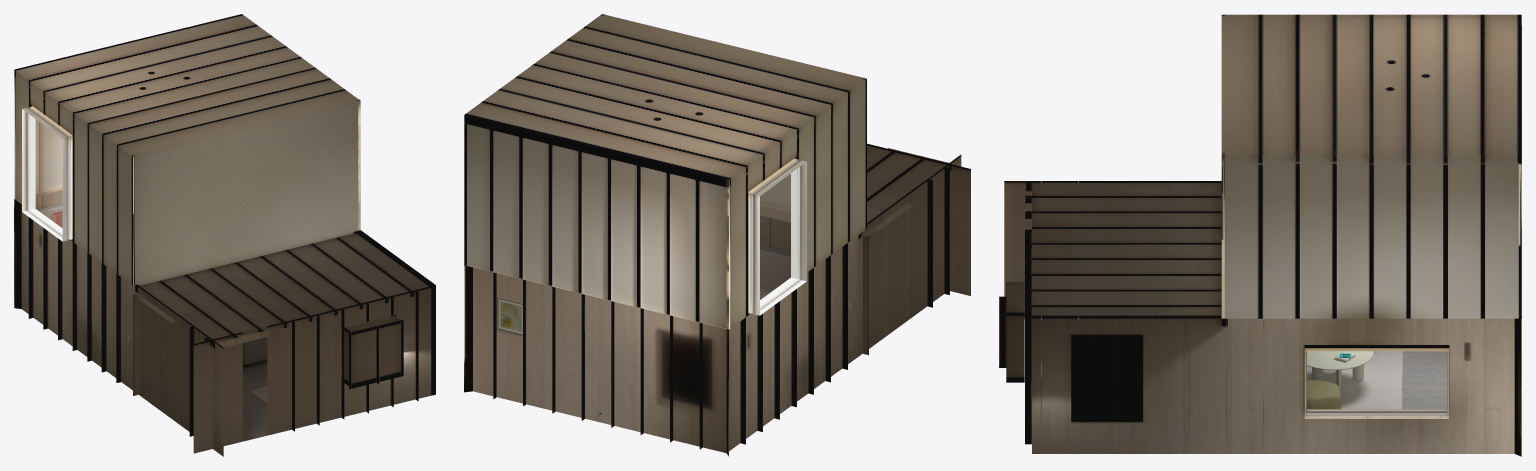
The model's file is XREmulatorsceneV5_livingRoom.glb.
3 renders of one model, left to right at view 1: azimuth 30°, elevation 25°; view 2: azimuth 150°, elevation 25°; view 3: azimuth 270°, elevation 25°, orthographic. The views are drawn at different scales.
Parts seen in each view (by area): view 1: Room Bake living room top.002, Room Bake living room bottom.002, Couch_bake2; view 2: Room Bake living room top.002, Room Bake living room bottom.002; view 3: Room Bake living room bottom.002, Room Bake living room top.002, coffee table, Retopo_Cube.077.
Boxes of the visible parts, x1=… form: Room Bake living room top.002: x1=14, y1=14, x2=360, y2=285; Room Bake living room bottom.002: x1=14, y1=187, x2=435, y2=456; Couch_bake2: x1=243, y1=337, x2=267, y2=364; Room Bake living room top.002: x1=464, y1=14, x2=866, y2=329; Room Bake living room bottom.002: x1=464, y1=143, x2=970, y2=456; Room Bake living room bottom.002: x1=999, y1=181, x2=1521, y2=456; Room Bake living room top.002: x1=1221, y1=14, x2=1521, y2=318; coffee table: x1=1307, y1=351, x2=1373, y2=390; Retopo_Cube.077: x1=1307, y1=380, x2=1340, y2=409.
Size of what is drawn, in the model's own units: 5.58 by 5.16 by 8.07.
11 materials, 11 textured.
